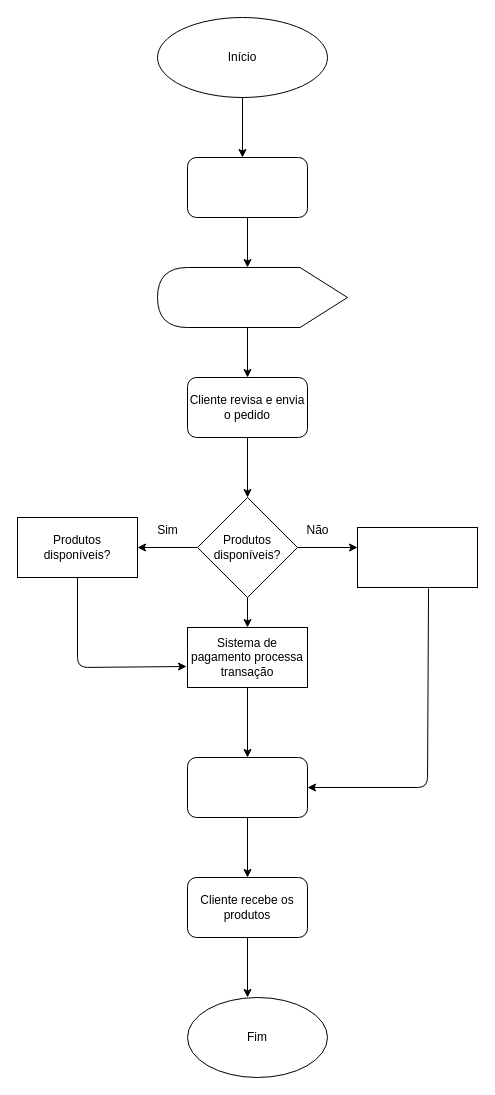
Some shapes in this 495 by 1095 pixel diagram are drawn without their labels. Here are the shapes that lost their labels. From the top down, the centre of each, then its label:
(247,187): Cliente acessa o site
(252,297): Cliente navega e adiciona produtos ao carrinho
(417,557): Vendedor recebe aviso de indisponibilidade
(247,787): Cliente recebe notificação de envio
